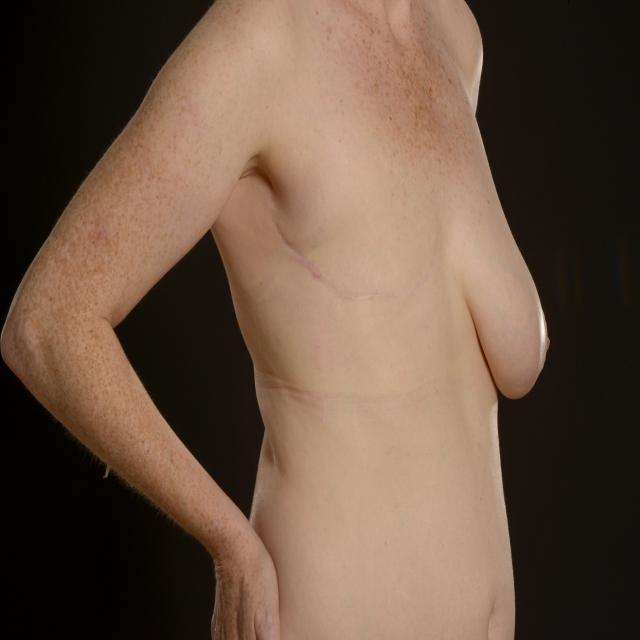wound: (264, 222, 408, 316)
